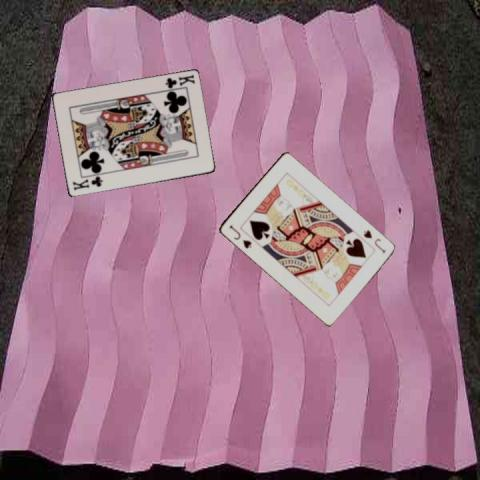Js: (225, 222, 253, 250), (360, 227, 387, 255)
Kc: (69, 174, 104, 192), (162, 72, 196, 90)
